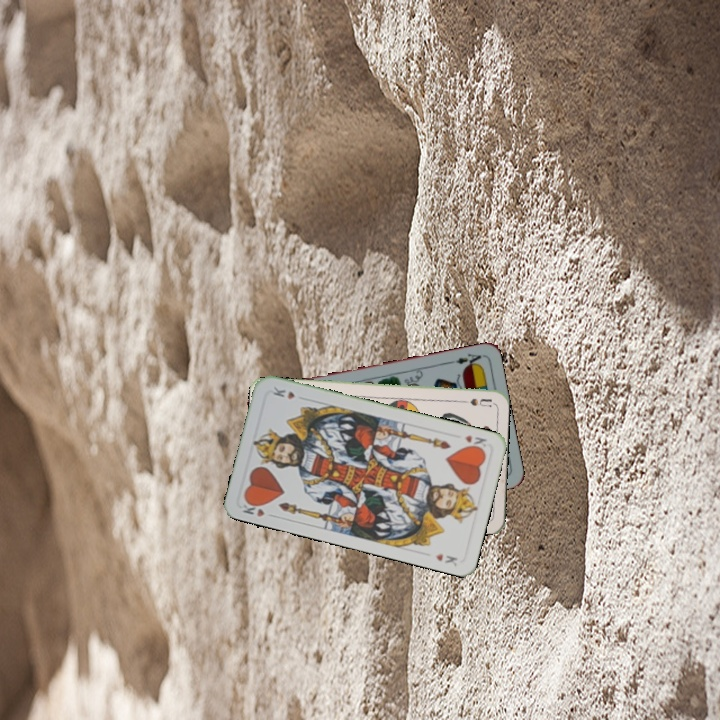EA: (444, 349, 484, 370)
HK: (238, 496, 278, 520), (461, 431, 489, 453)
SU: (453, 394, 493, 408)
